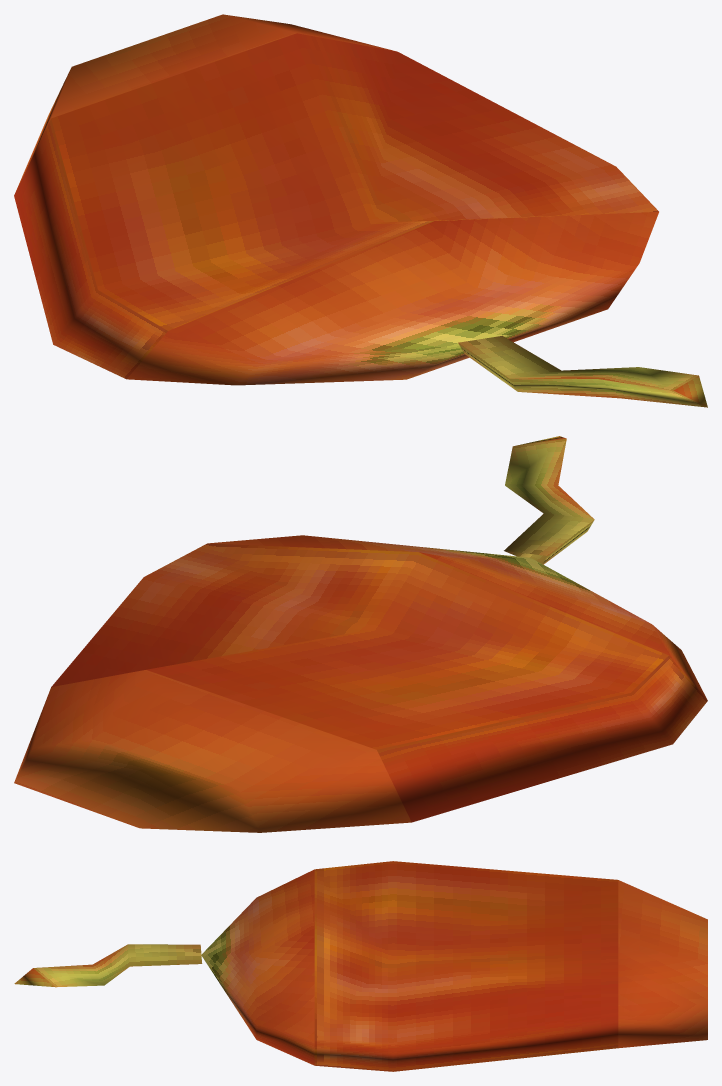
Rendered from Dried_PepperHabanero.fbx.
3 renders of one model, top to bottom at view 1: azimuth 30°, elevation 25°; view 2: azimuth 150°, elevation 25°; view 3: azimuth 270°, elevation 25°, orthographic. The views are drawn at different scales.
Visible parts, largest first — view 1: PepperHabanero; view 2: PepperHabanero; view 3: PepperHabanero.
Boxes of the visible parts, x1=… form: PepperHabanero: x1=14, y1=14, x2=707, y2=407; PepperHabanero: x1=14, y1=436, x2=707, y2=832; PepperHabanero: x1=14, y1=861, x2=707, y2=1071.
Size of the model in its own units: 1.69 by 0.4241 by 2.54.
